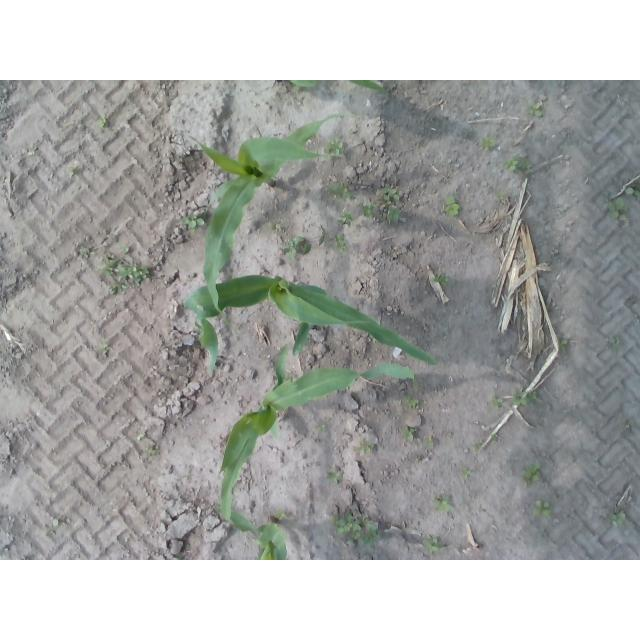Maize: (190, 115, 348, 326), (182, 275, 449, 376), (220, 345, 416, 476), (222, 428, 289, 561), (276, 81, 389, 96)
Weeds: (100, 257, 150, 292), (280, 237, 309, 262), (336, 514, 362, 535), (328, 183, 350, 201), (325, 137, 346, 155), (523, 463, 542, 482), (609, 197, 624, 219), (183, 213, 204, 227), (383, 188, 399, 205), (327, 465, 342, 483), (535, 500, 550, 517), (364, 529, 381, 544), (387, 207, 402, 224), (447, 197, 460, 216), (355, 441, 374, 454), (513, 390, 527, 407), (334, 233, 347, 251), (425, 537, 440, 552), (529, 102, 543, 118), (404, 396, 421, 409), (611, 511, 626, 525), (404, 427, 417, 442), (480, 135, 493, 150), (436, 499, 453, 510), (506, 157, 519, 171), (626, 184, 639, 197), (435, 272, 448, 285), (340, 212, 352, 225), (423, 437, 435, 450), (490, 397, 503, 408), (319, 224, 326, 244), (362, 207, 374, 218), (102, 343, 111, 357), (460, 467, 471, 477), (81, 247, 91, 257), (268, 222, 282, 229), (98, 119, 107, 127), (277, 513, 287, 520), (315, 423, 326, 429), (528, 392, 536, 400), (69, 167, 76, 176), (476, 443, 483, 452), (497, 192, 504, 201), (562, 340, 567, 352), (146, 447, 154, 454), (491, 433, 498, 440), (137, 435, 144, 441), (610, 336, 615, 344), (126, 247, 131, 254), (416, 458, 421, 463)
